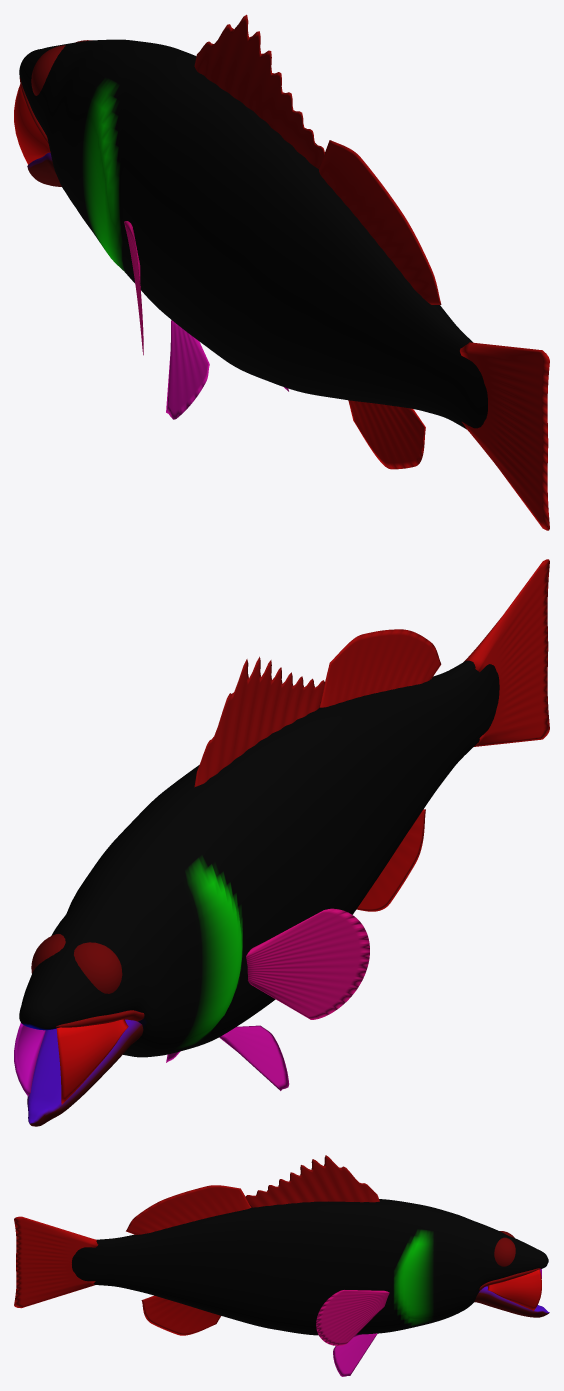
File: kelp_bass.glb
The picture shows the model from 3 angles, top to bottom: view 1: azimuth 30°, elevation 25°; view 2: azimuth 150°, elevation 25°; view 3: azimuth 270°, elevation 25°; orthographic projection. The views are drawn at different scales.
Visible parts, largest first — view 1: kelp_bass; view 2: kelp_bass; view 3: kelp_bass.
Part boxes in pixels (<box>): kelp_bass: <box>14,14,549,530</box>; kelp_bass: <box>14,559,549,1126</box>; kelp_bass: <box>14,1155,549,1376</box>.
Size of the model in its own units: 0.1245 by 0.211 by 0.494.
